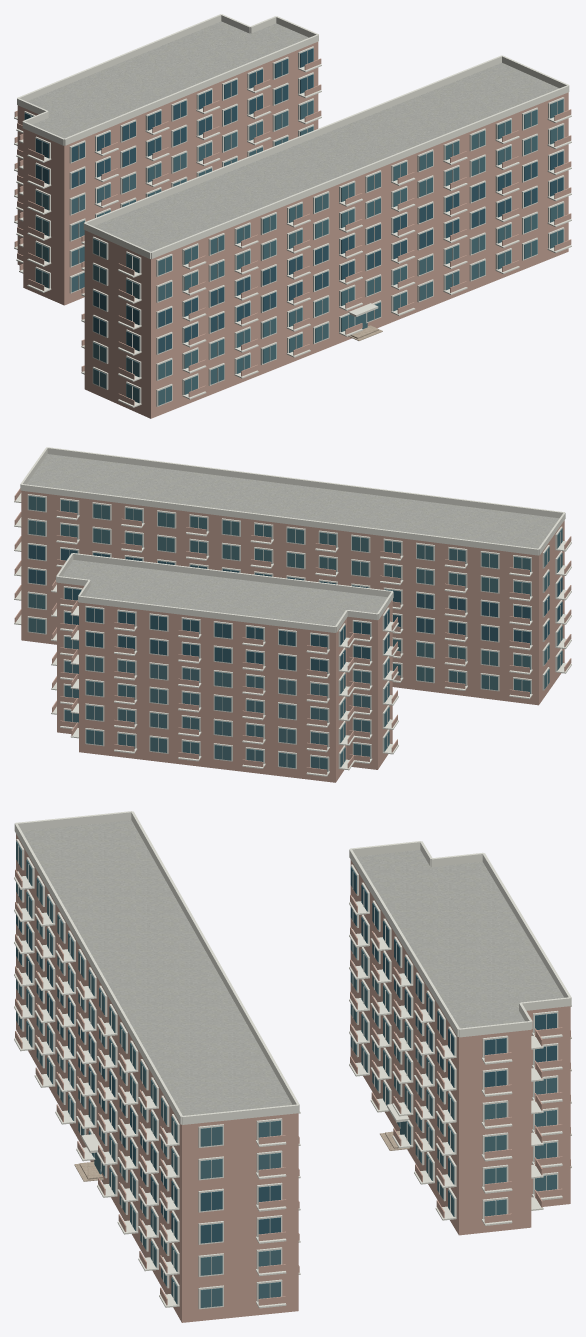
The model's file is chunk-n1-p1.glb.
3 renders of one model, top to bottom at view 1: azimuth 30°, elevation 25°; view 2: azimuth 150°, elevation 25°; view 3: azimuth 270°, elevation 25°, orthographic. The views are drawn at different scales.
Visible parts, largest first — view 1: chunk-n1-p1; view 2: chunk-n1-p1; view 3: chunk-n1-p1.
Boxes of the visible parts, left/top/right/bottom form: chunk-n1-p1: left=14, top=14, right=571, bottom=418; chunk-n1-p1: left=14, top=447, right=571, bottom=782; chunk-n1-p1: left=14, top=811, right=571, bottom=1322.
Size of the model in its own units: 67.16 by 21.46 by 51.73.
6 materials, 2 textured.
